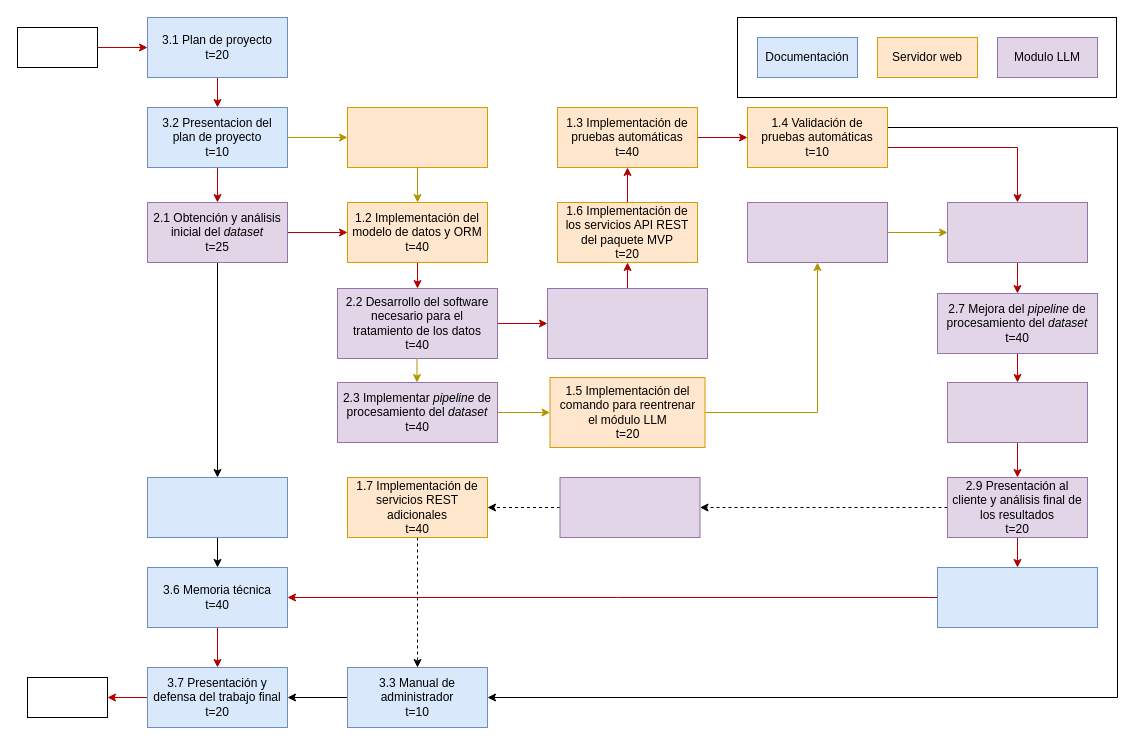
The diagram is 1143 pixels wide and 745 high, and some of its shapes have lost their labels. Here are the shapes that lost their labels. From the top down, the box of each, then its label:
(16, 26, 98, 68): INICIO
(346, 106, 488, 168): 1.1 Desarrollo inicial del servidor web y página principal t=20
(746, 202, 888, 262): 2.4 Fine-tuning del módulo LLM inicial t=40
(946, 202, 1088, 262): 2.6 Presentación al cliente y análisis inicial de los resultados t=20
(546, 288, 708, 358): 2.5 Implementación de los métodos del módulo LLM para el paquete MVP t=40
(946, 382, 1088, 442): 2.8 Fine-tuning final del módulo LLM t=40
(146, 476, 288, 538): 3.4 Documento de análisis del dataset t=25
(559, 476, 700, 538): 2.10 Implementación de métodos del modulo LLM adicionales t=40
(936, 566, 1098, 628): 3.5 Recopilación de informes de seguimiento del módulo LLM t=20
(26, 676, 108, 718): FIN
